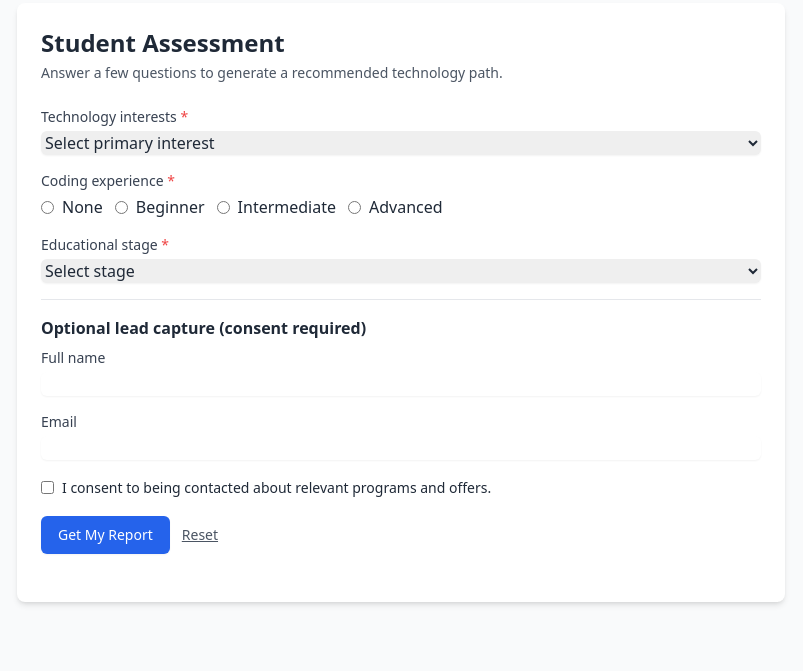
Assessment page › shows backend errors without presenting a successful report
This screenshot has width=803, height=671.
Select "Web Development" in the dropdown showing "Select primary interest" at {"x": 401, "y": 143}, box [41, 131, 761, 155]
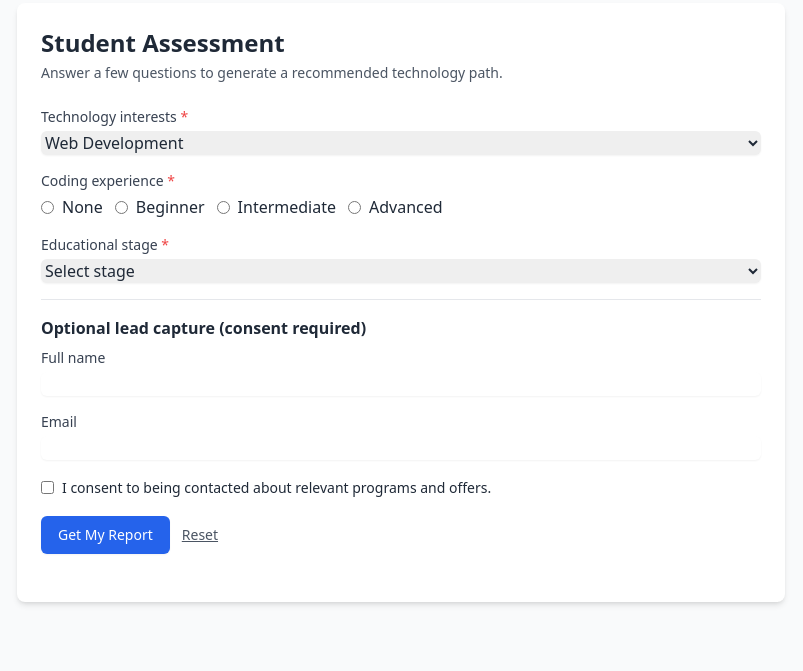
Click the radio button labelled "Beginner".
click(121, 207)  # box [115, 200, 128, 214]
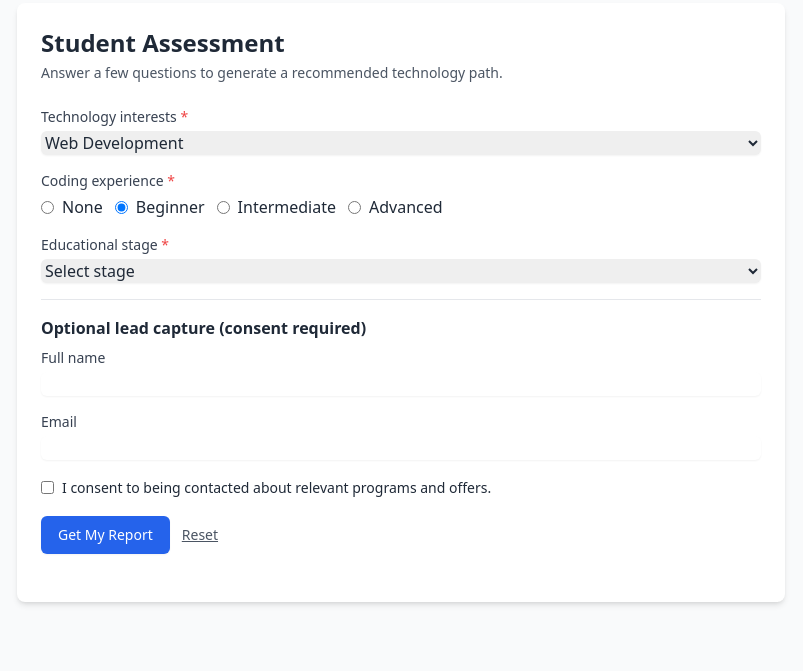
Select "Undergraduate" in the dropdown showing "Select stage" at {"x": 401, "y": 271}, box [41, 259, 761, 283]
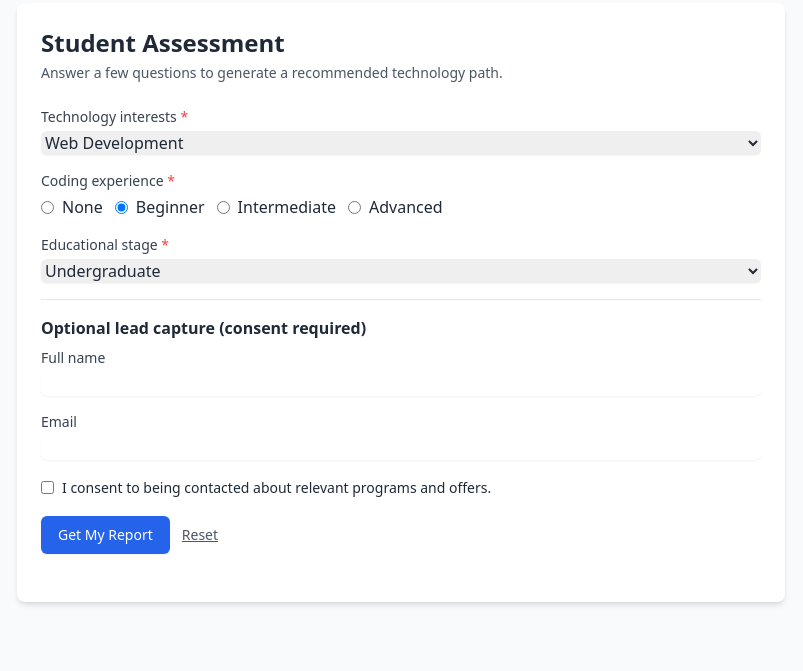
Click the button "Get My Report".
click(105, 535)  # box [41, 516, 170, 554]
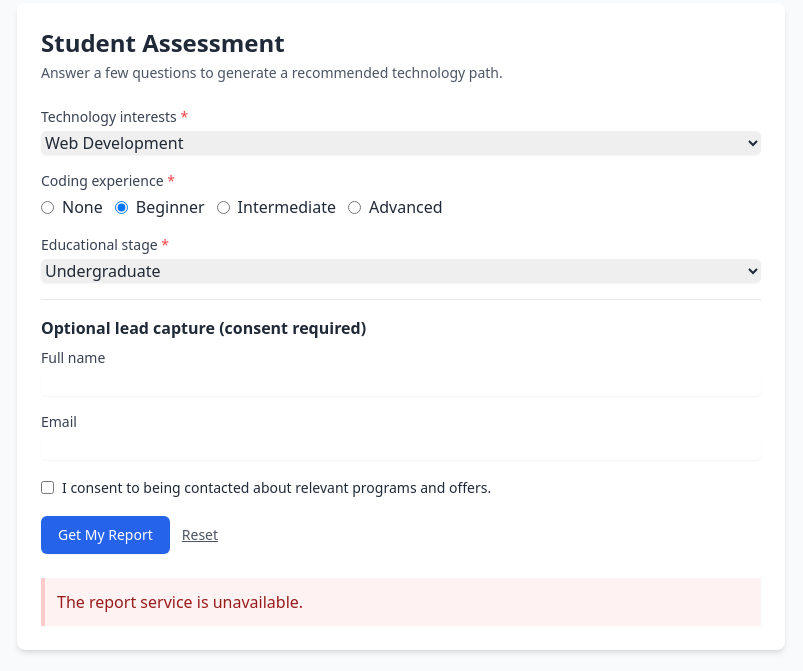
Check: the message reads "The report service is unavailable.", box [57, 591, 303, 613]
